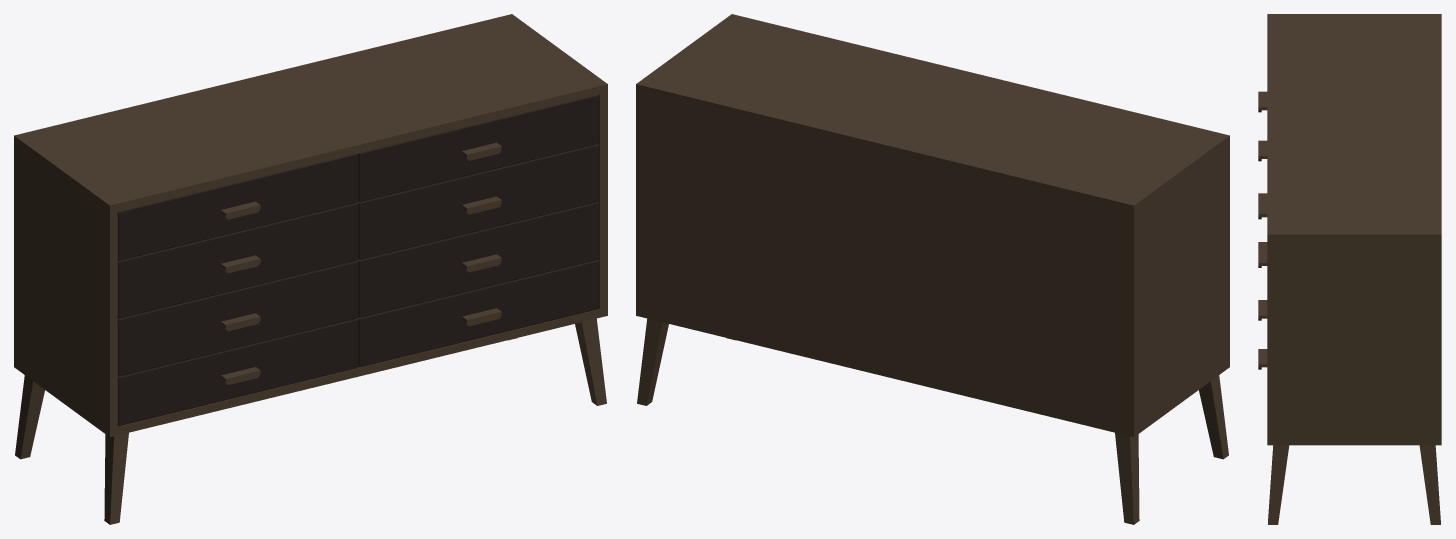
The model's file is Prop_Cabinet_05.fbx.
3 views of the same model, side by side, from view 1: azimuth 30°, elevation 25°; view 2: azimuth 150°, elevation 25°; view 3: azimuth 270°, elevation 25° (orthographic). The views are drawn at different scales.
Visible parts, largest first — view 1: Prop_Cabinet_05; view 2: Prop_Cabinet_05; view 3: Prop_Cabinet_05.
Boxes of the visible parts, x1=… form: Prop_Cabinet_05: x1=14, y1=14, x2=607, y2=524; Prop_Cabinet_05: x1=636, y1=14, x2=1229, y2=524; Prop_Cabinet_05: x1=1258, y1=14, x2=1441, y2=524.
Size of the model in its own units: 180 by 110 by 63.07.
